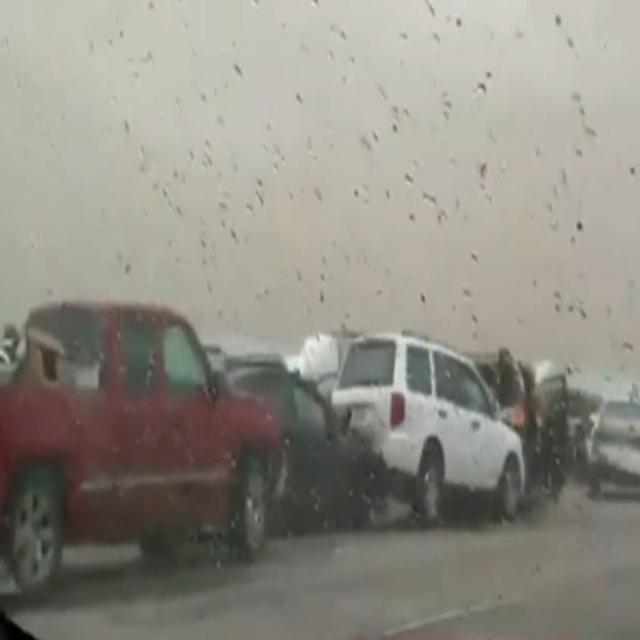car: (0, 299, 286, 593), (328, 331, 528, 526), (212, 355, 366, 537), (482, 341, 570, 513), (584, 388, 640, 502)
